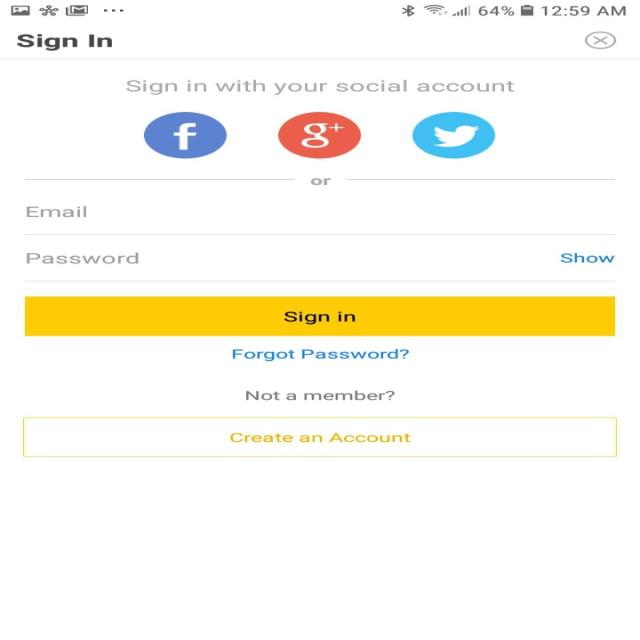EditText: (24, 252, 615, 282), (24, 205, 615, 235)
Icon: (143, 112, 227, 158), (412, 112, 495, 158), (278, 112, 360, 158), (583, 32, 615, 50)
Text: (125, 79, 514, 95), (232, 348, 409, 361), (16, 33, 112, 51), (245, 390, 395, 400), (25, 252, 138, 264), (26, 205, 86, 218), (559, 253, 614, 263), (310, 178, 330, 185)
TextButton: (22, 417, 616, 457), (24, 296, 614, 336)
